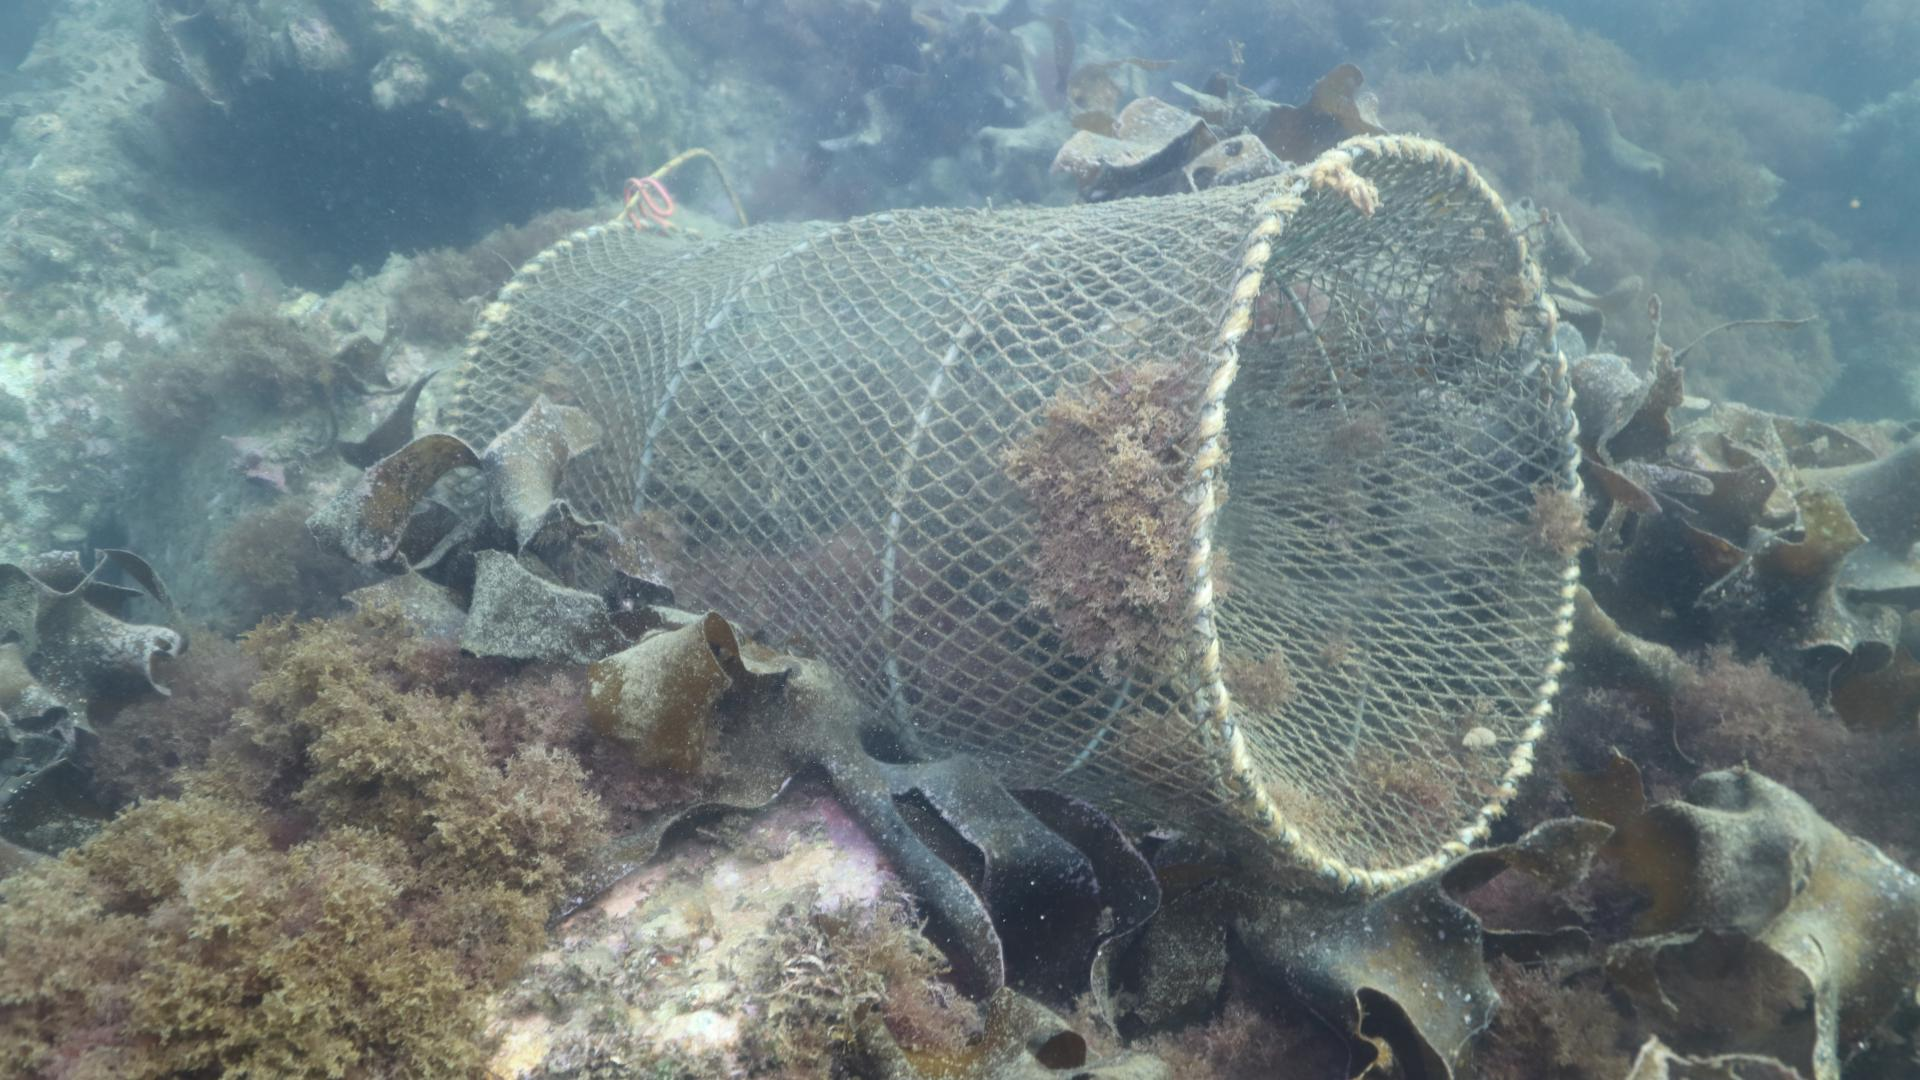spring fish trap: (447, 132, 1585, 895)
